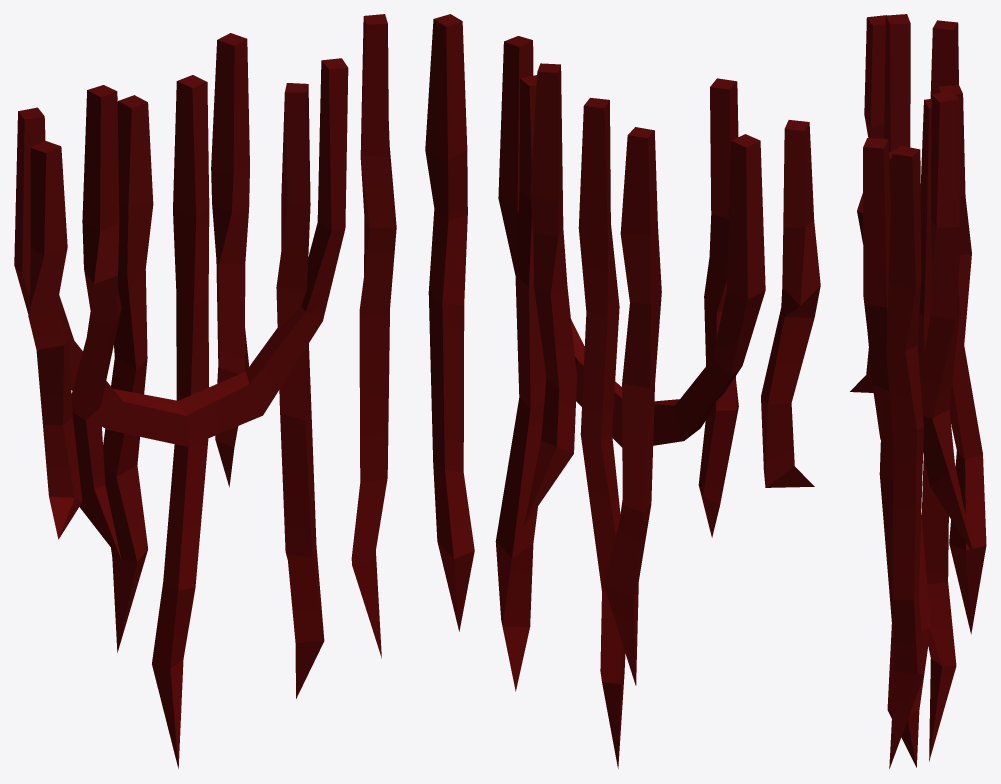
Rendered from SM_Gen_Env_Vines_04.gltf.
3 views of the same model, side by side, from view 1: azimuth 30°, elevation 25°; view 2: azimuth 150°, elevation 25°; view 3: azimuth 270°, elevation 25° (orthographic). The views are drawn at different scales.
Visible parts, largest first — view 1: SM_Gen_Env_Vines_04; view 2: SM_Gen_Env_Vines_04; view 3: SM_Gen_Env_Vines_04.
Part boxes in pixels (x1,y1,x2,y2): SM_Gen_Env_Vines_04: (14,14,396,768); SM_Gen_Env_Vines_04: (425,14,820,768); SM_Gen_Env_Vines_04: (850,14,986,768).
Size of the model in its own units: 1.17 by 2.08 by 0.3694.
